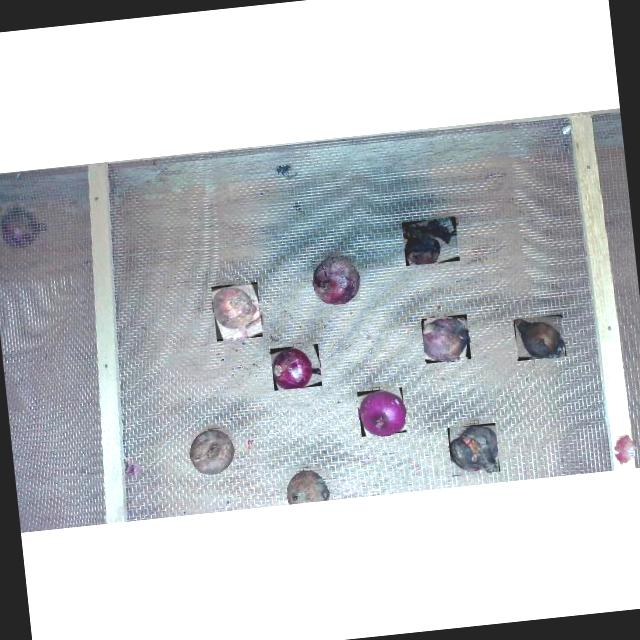healthy: (358, 389, 404, 435), (272, 346, 321, 388)
rotten: (402, 218, 455, 264), (212, 288, 261, 337), (449, 425, 497, 473), (314, 256, 359, 303), (515, 319, 563, 357), (424, 317, 467, 359)
